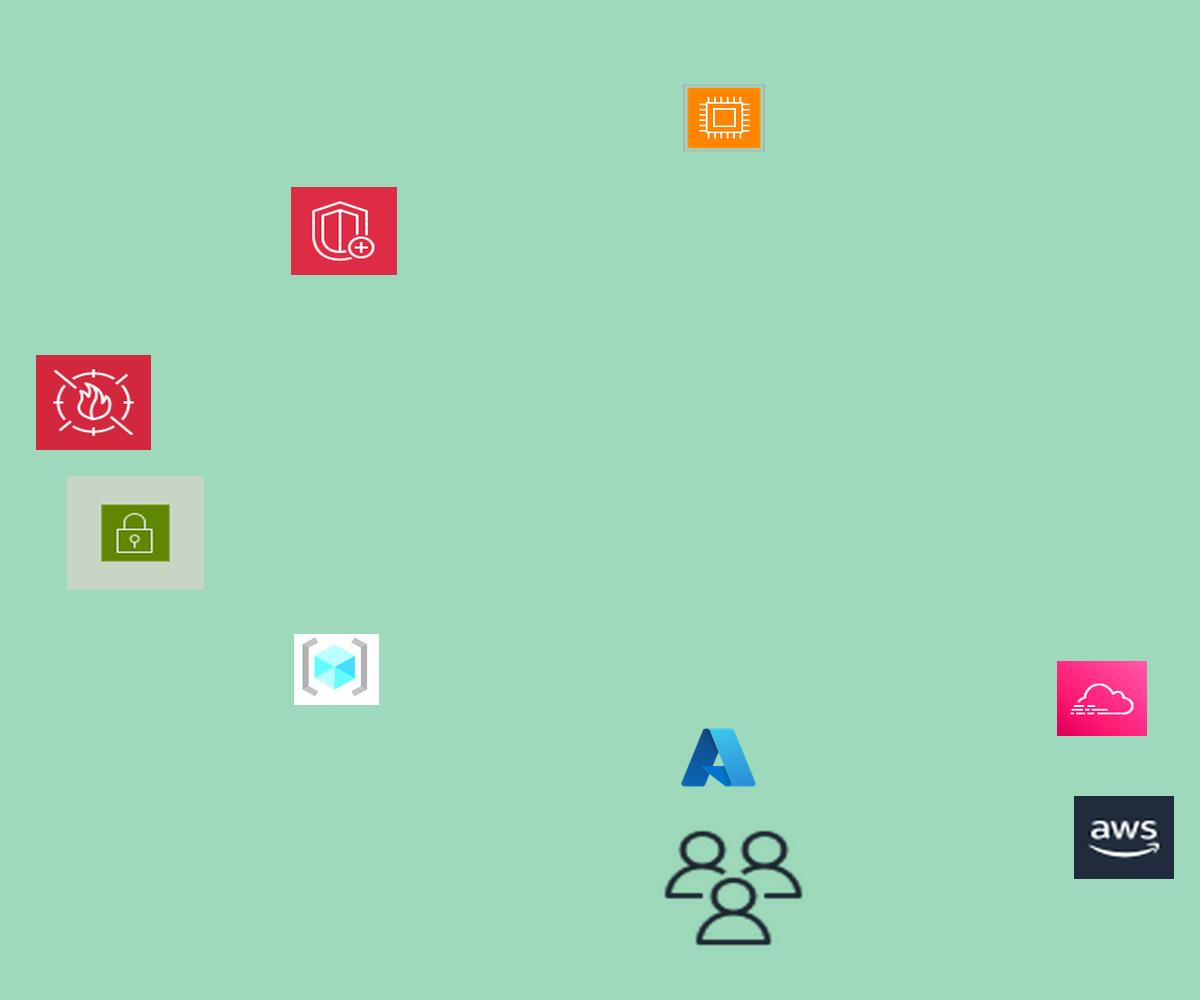AWS-Category_Compute: (683, 84, 765, 152)
AWS-Cloud-logo: (1074, 796, 1174, 879)
AWS-CloudTrail: (1057, 661, 1147, 736)
AWS-Public-subnet: (67, 476, 204, 590)
AWS-Res_Users: (659, 826, 808, 950)
AWS-Shield: (291, 187, 397, 275)
AWS-WAF: (36, 355, 151, 450)
Azure_resource_group: (294, 634, 379, 705)
Azure_services: (678, 724, 759, 791)
